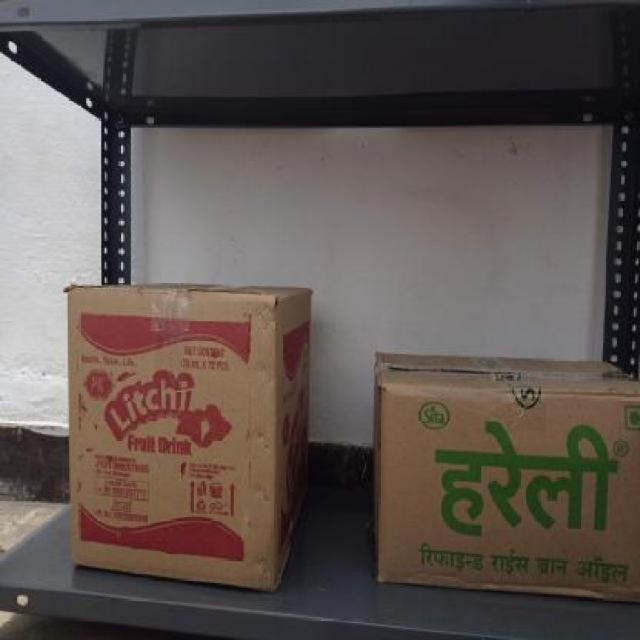box: (68, 282, 277, 587), (375, 383, 640, 603)
